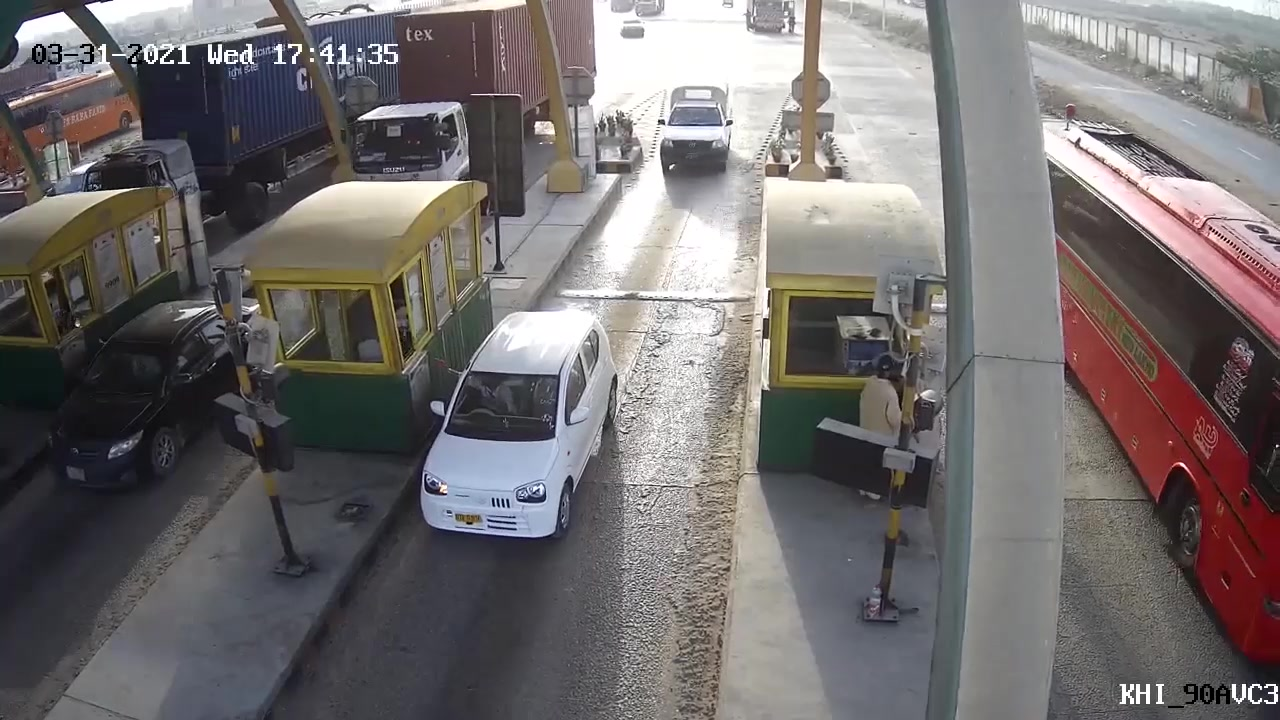F1: (400, 309, 626, 564), (651, 79, 735, 203)
